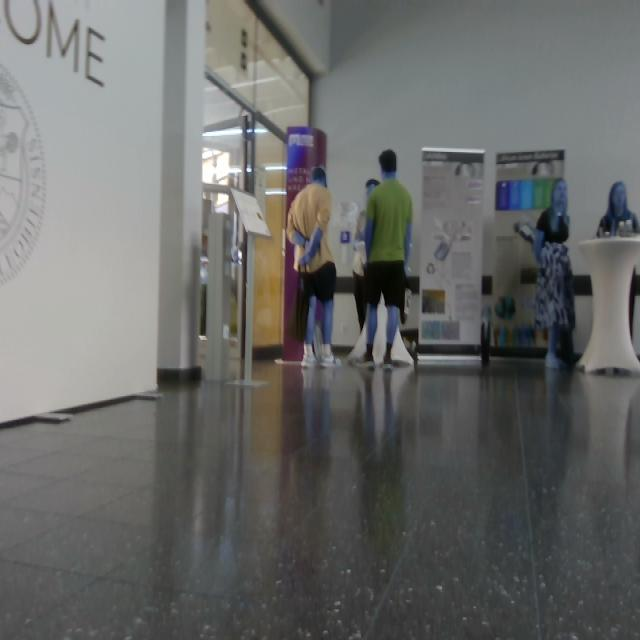light bulb: (1, 59, 48, 287), (514, 220, 535, 244)
person: (355, 149, 414, 370), (287, 166, 342, 369)
tiled floor: (1, 354, 640, 640)
